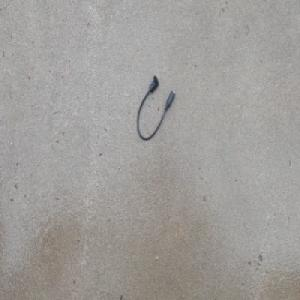Wire: (136, 74, 176, 141)
